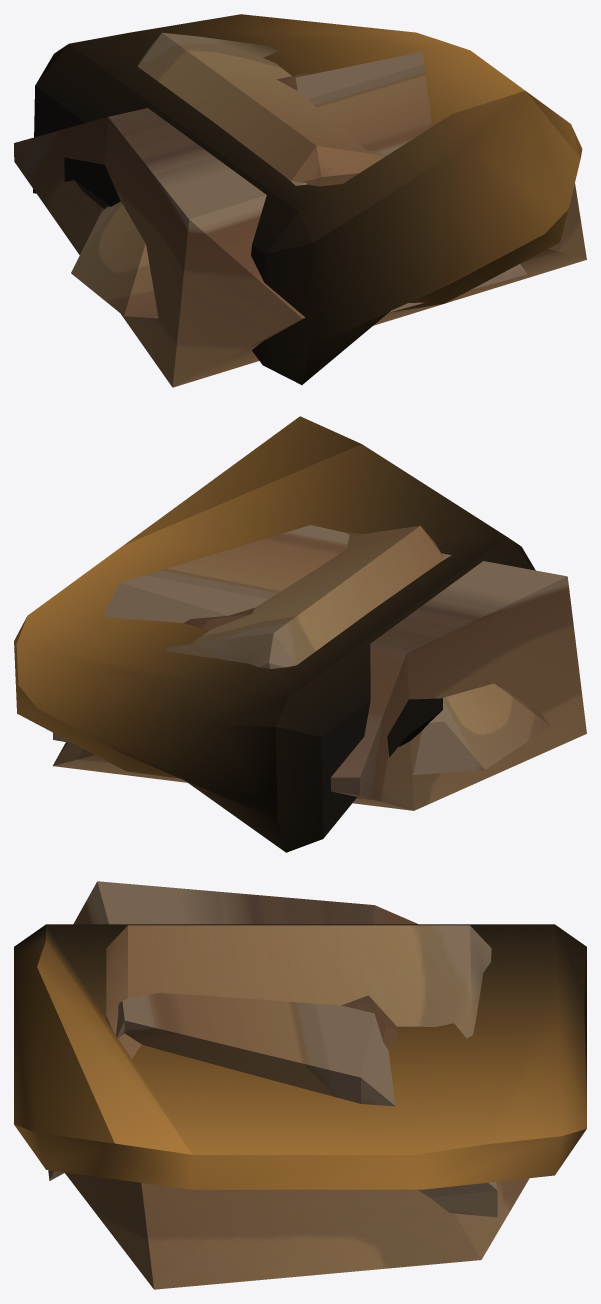
File: Rocks.fbx
The picture shows the model from 3 angles, top to bottom: view 1: azimuth 30°, elevation 25°; view 2: azimuth 150°, elevation 25°; view 3: azimuth 270°, elevation 25°; orthographic projection. The views are drawn at different scales.
Parts seen in each view (by area): view 1: Rock_01, Rock_02, Rock_04, Rock_03; view 2: Rock_01, Rock_02, Rock_03, Rock_04; view 3: Rock_01, Rock_02, Rock_04, Rock_03.
Part boxes in pixels (x1,y1,x2,y2): Rock_01: (33,14,582,384); Rock_02: (14,73,586,387); Rock_04: (137,32,386,186); Rock_03: (71,52,527,318); Rock_01: (14,416,535,852); Rock_02: (53,553,586,810); Rock_03: (53,525,550,774); Rock_04: (165,525,444,668); Rock_01: (14,924,586,1189); Rock_02: (64,881,529,1289); Rock_04: (106,925,491,1058); Rock_03: (48,993,497,1217).
Size of the model in its own units: 146 by 72.18 by 143.
Materials: 2 (2 with a texture image).
